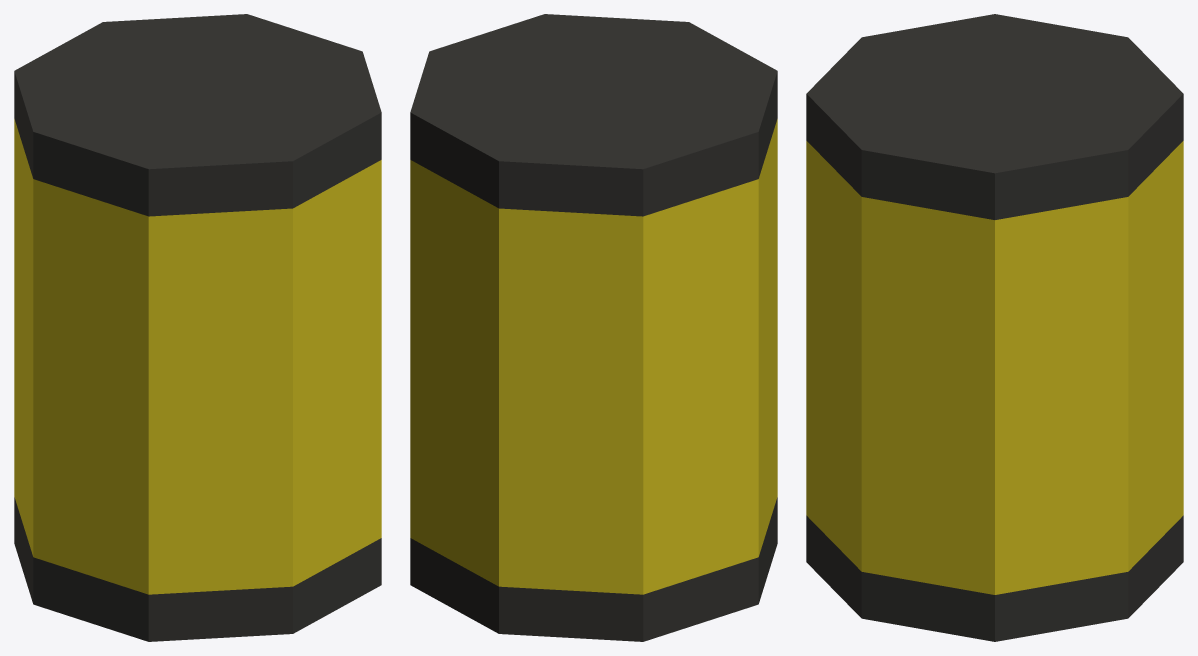
File: SM_Single_Can_Yellow.fbx
The picture shows the model from 3 angles, left to right: view 1: azimuth 30°, elevation 25°; view 2: azimuth 150°, elevation 25°; view 3: azimuth 270°, elevation 25°; orthographic projection.
Visible parts, largest first — view 1: SM_Can_Var1; view 2: SM_Can_Var1; view 3: SM_Can_Var1.
Boxes of the visible parts, bbox=[...] form: SM_Can_Var1: bbox=[14, 14, 381, 641]; SM_Can_Var1: bbox=[410, 14, 777, 641]; SM_Can_Var1: bbox=[806, 14, 1183, 641].
Size of the model in its own units: 0.0934 by 0.1281 by 0.0934.
